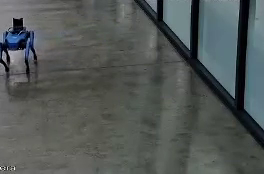robot dog: (1, 14, 48, 74)
